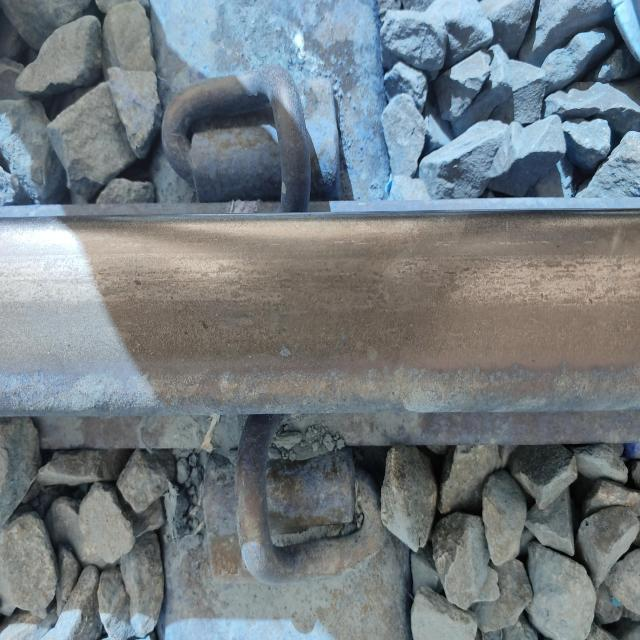Good Fasteners: (201, 415, 409, 583), (162, 65, 340, 212)
